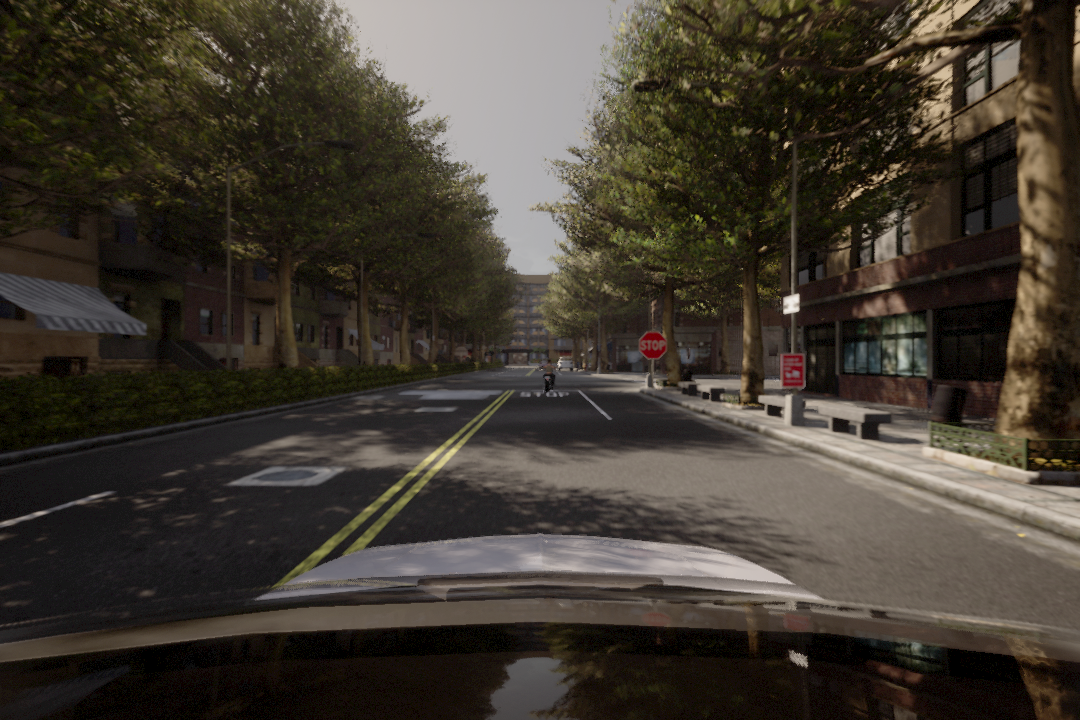TrafficSign_stop: (639, 330, 667, 363)
